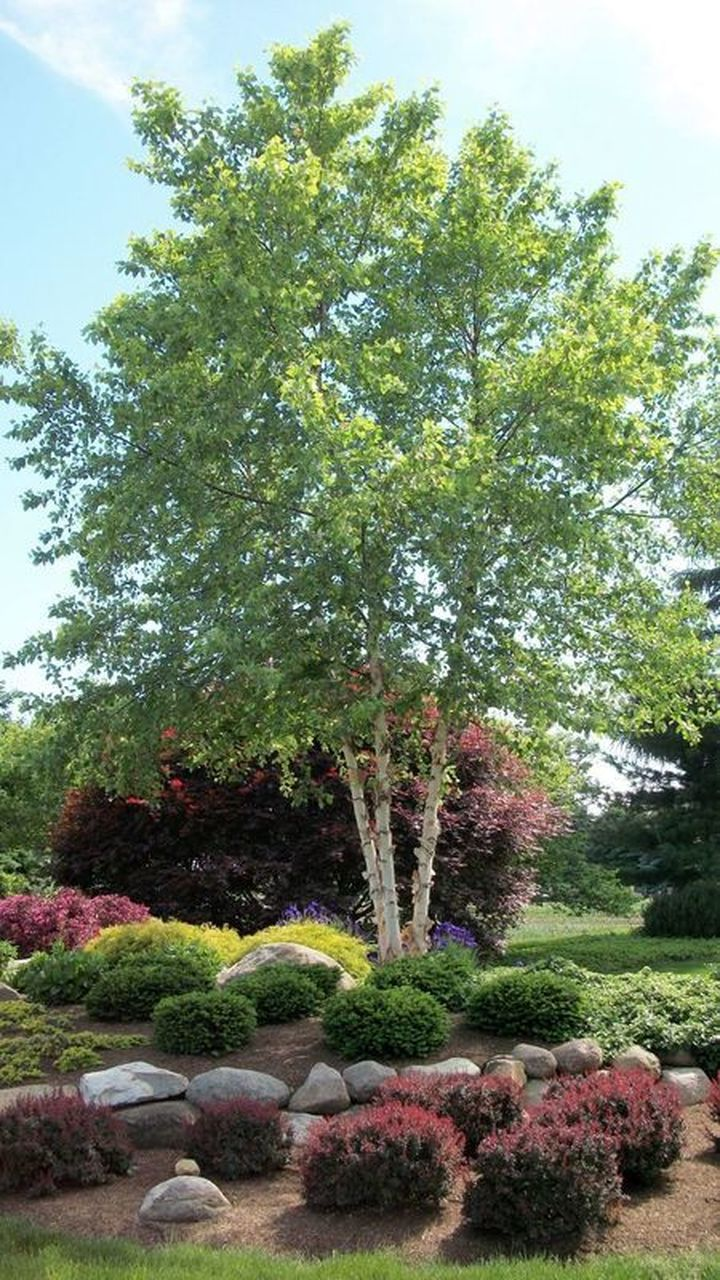bush: (32, 944, 584, 1050), (449, 1130, 654, 1241), (286, 1109, 465, 1217)
tree: (54, 57, 693, 944)
